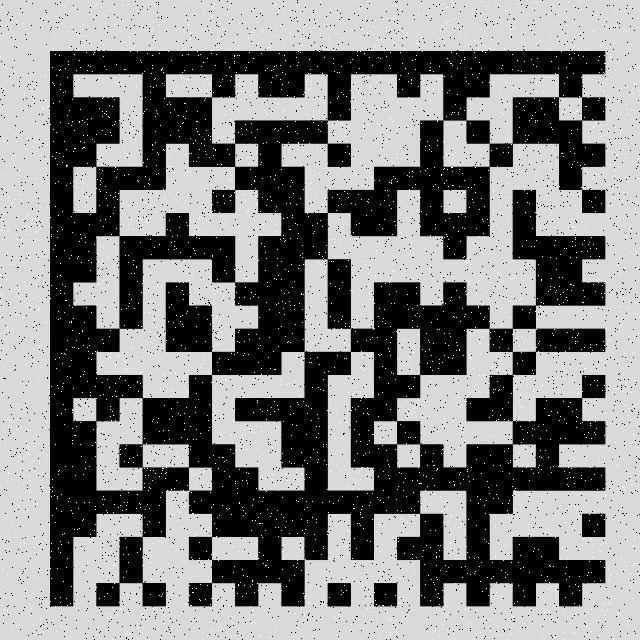datamatrix: (34, 34, 620, 620)
